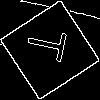T: (25, 25, 76, 65)
